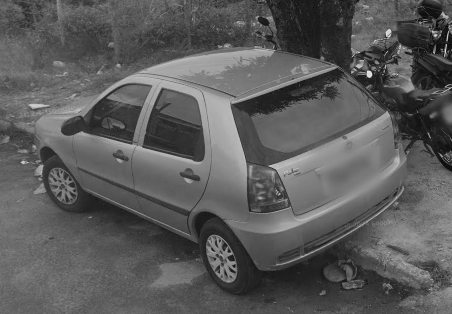car: (34, 44, 407, 297)
